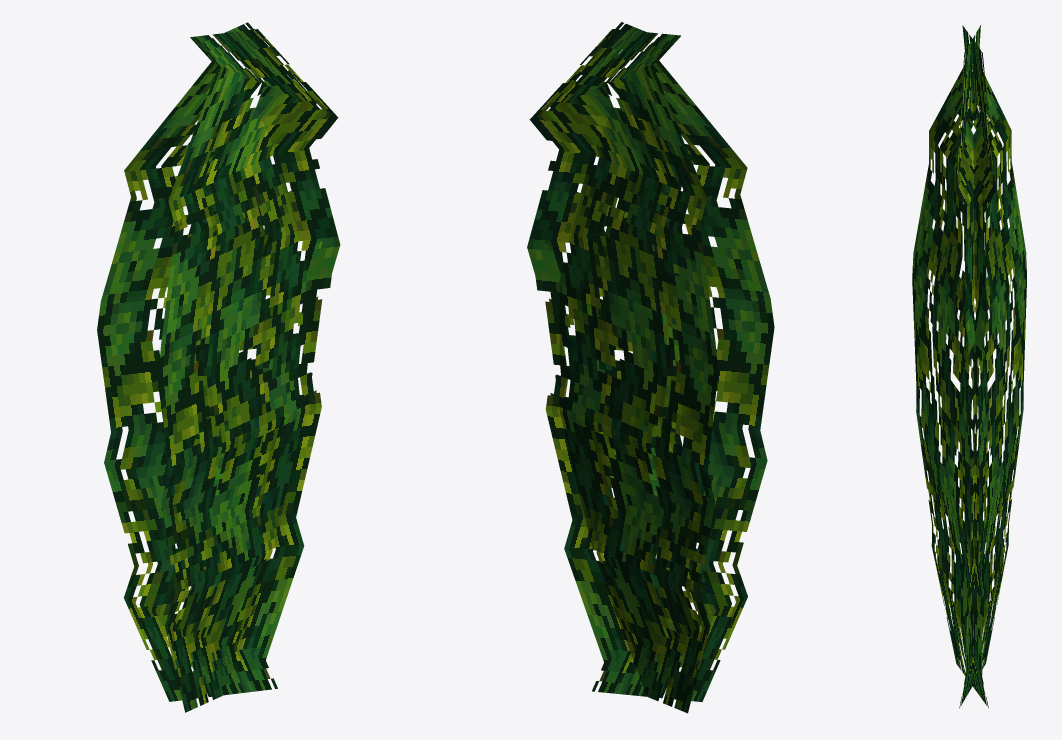
Rendered from hanging-tree-leaves.glb.
3 renders of one model, left to right at view 1: azimuth 30°, elevation 25°; view 2: azimuth 150°, elevation 25°; view 3: azimuth 270°, elevation 25°, orthographic. The views are drawn at different scales.
Parts seen in each view (by area): view 1: Hanging_Leaf_Segment; view 2: Hanging_Leaf_Segment; view 3: Hanging_Leaf_Segment.
Part boxes in pixels (x1,y1,x2,y2): Hanging_Leaf_Segment: (97, 22, 340, 712); Hanging_Leaf_Segment: (527, 22, 774, 713); Hanging_Leaf_Segment: (912, 25, 1026, 708).
Size of the model in its own units: 0.6599 by 1.18 by 0.2643.
Materials: 1 (1 with a texture image).
